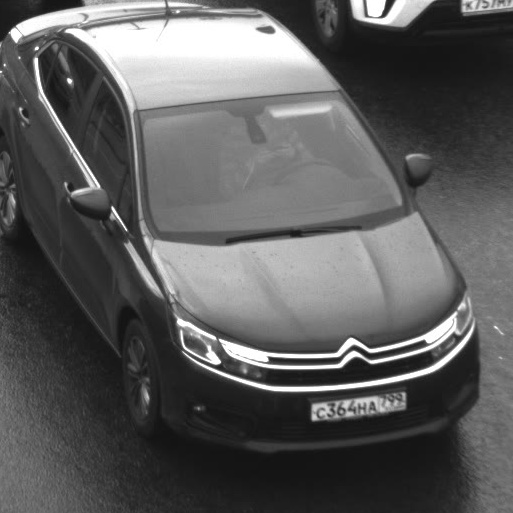plate: (298, 379, 414, 429)
